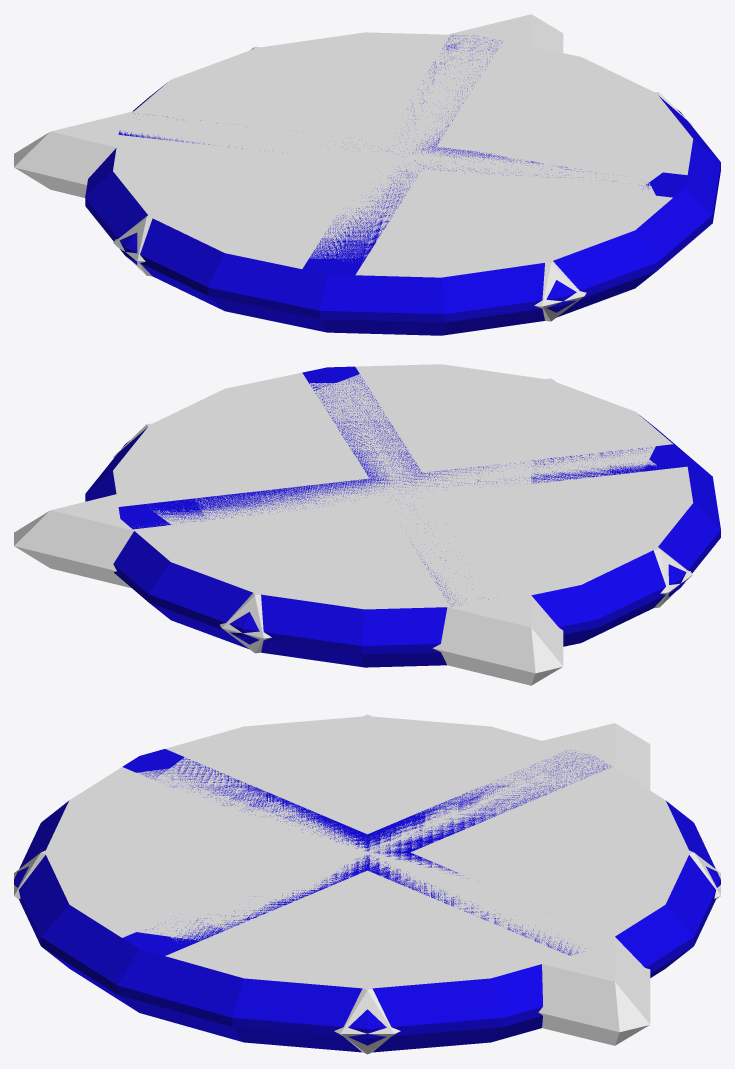
The model's file is Squares.fbx.
3 views of the same model, one above another, from view 1: azimuth 30°, elevation 25°; view 2: azimuth 150°, elevation 25°; view 3: azimuth 270°, elevation 25° (orthographic). The views are drawn at different scales.
Visible parts, largest first — view 1: Unavailable, Tier0, Tier1, Tier3, Tier2; view 2: Unavailable, Tier1, Tier0, Tier2, Tier3; view 3: Unavailable, Tier0, Tier1, Tier2, Tier3.
Boxes of the visible parts, x1,y1,x2,y2 form: Unavailable: [85, 32, 720, 335]; Tier0: [14, 14, 563, 248]; Tier1: [113, 46, 692, 321]; Tier3: [158, 51, 686, 258]; Tier2: [129, 54, 659, 272]; Unavailable: [85, 364, 720, 667]; Tier1: [113, 378, 692, 653]; Tier0: [14, 393, 563, 685]; Tier2: [128, 368, 659, 586]; Tier3: [120, 383, 686, 590]; Unavailable: [14, 716, 720, 1052]; Tier0: [126, 723, 650, 1045]; Tier1: [14, 714, 720, 1054]; Tier2: [117, 728, 647, 976]; Tier3: [80, 738, 660, 966].
Size of the model in its own units: 200 by 20 by 200.
